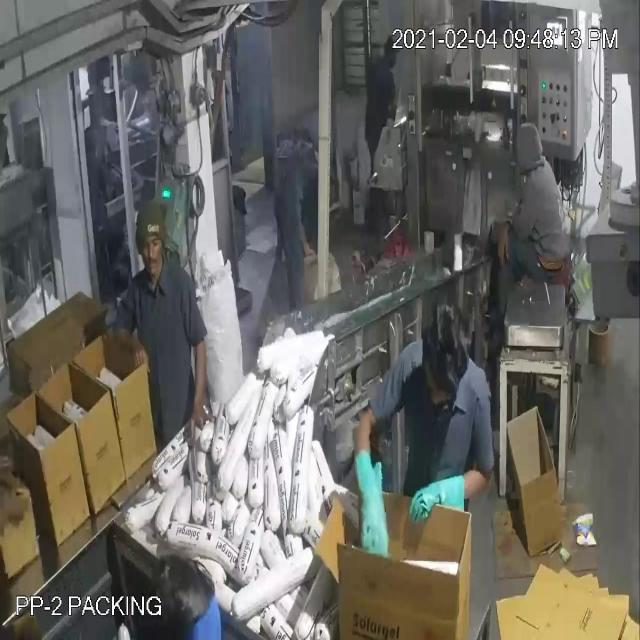Gloves: (39, 72, 504, 500)
